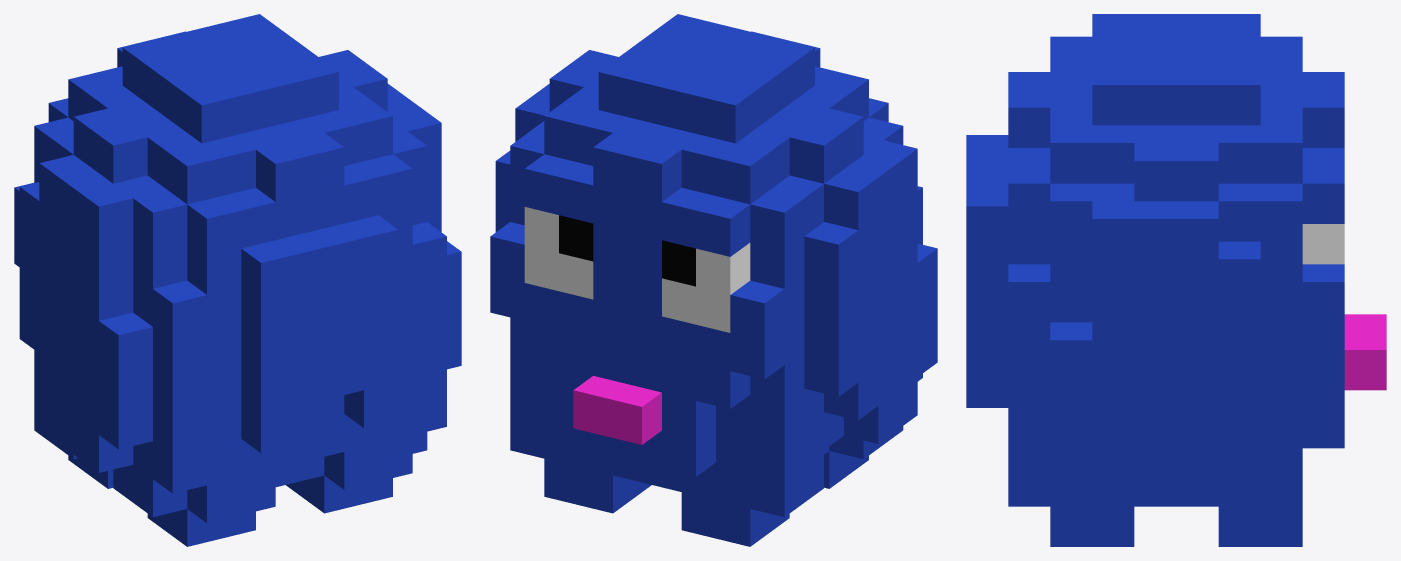
The model's file is blue_2.glb.
3 renders of one model, left to right at view 1: azimuth 30°, elevation 25°; view 2: azimuth 150°, elevation 25°; view 3: azimuth 270°, elevation 25°, orthographic. The views are drawn at different scales.
Parts seen in each view (by area): view 1: Untitled.006; view 2: Untitled.006; view 3: Untitled.006.
Boxes of the visible parts, <box> form: Untitled.006: <box>14,14,461,546</box>; Untitled.006: <box>490,14,937,546</box>; Untitled.006: <box>966,14,1386,546</box>.
Bounding box in the file's own units: 0.6 × 0.7 × 0.6.
1 material, 1 textured.
